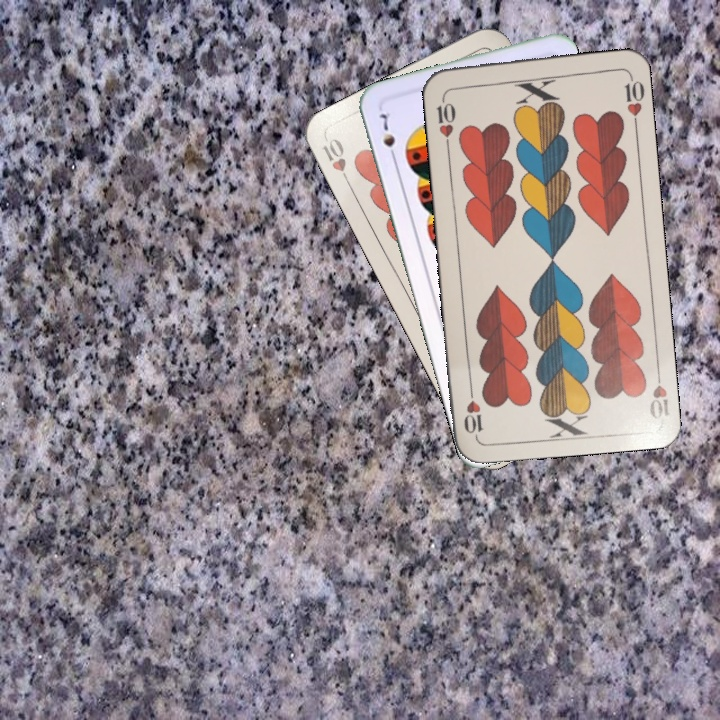H10: (318, 134, 354, 190), (645, 362, 672, 422), (432, 90, 459, 149)
S7: (374, 106, 399, 164)
